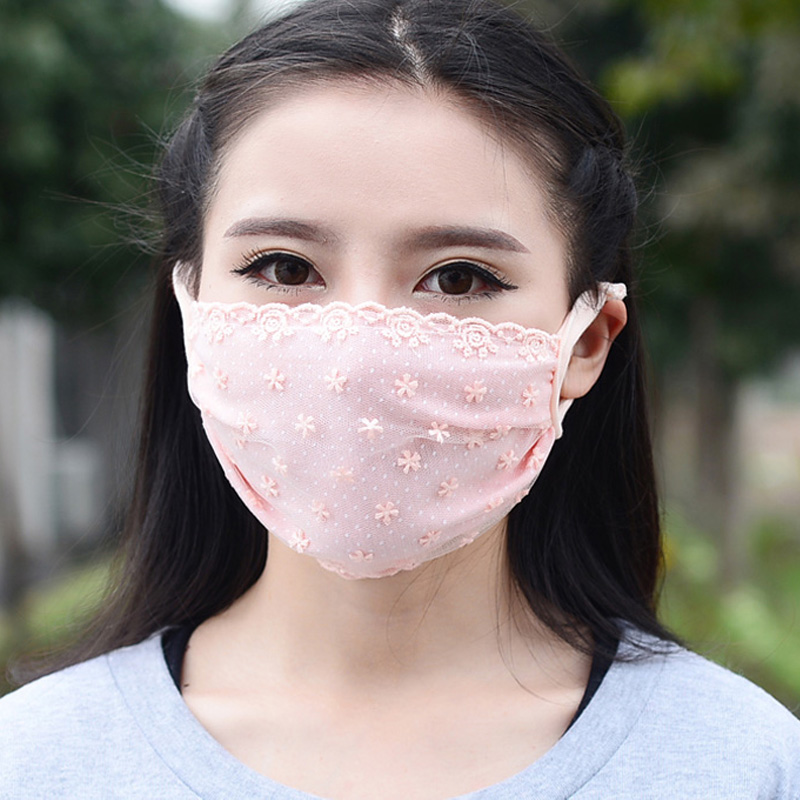face_mask: (193, 83, 567, 555)
